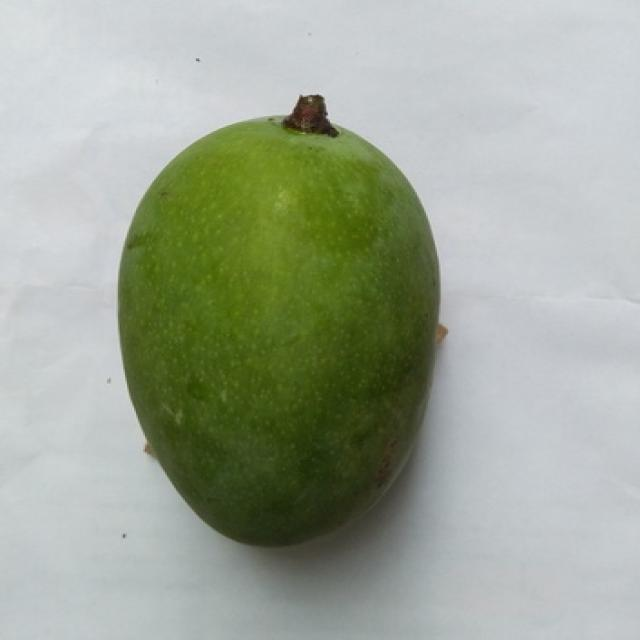Mango: (118, 116, 437, 545)
